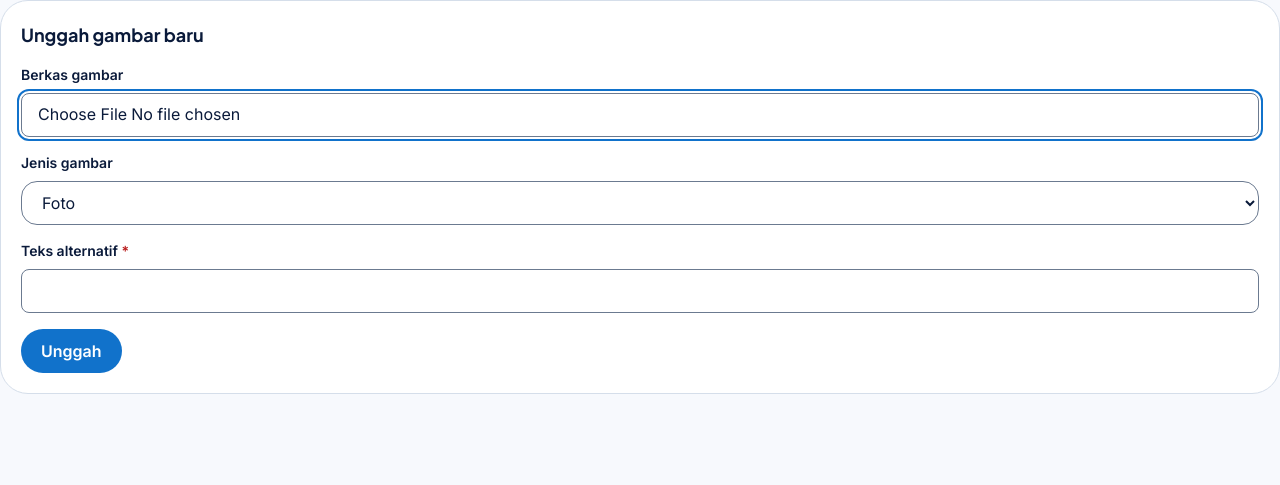
Test: media upload › shows a message instead of crashing when the server action rejects
Earlier steps of the test are not shown.
In the field labelled "Teks alternatif *": (640, 291) x1=21 y1=269 x2=1259 y2=313, type "Foto"
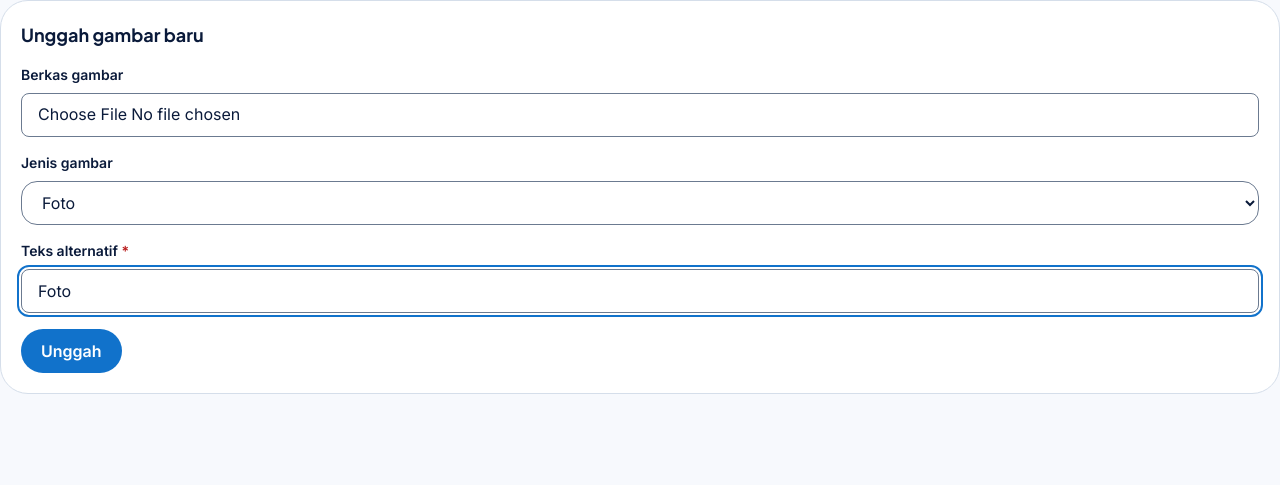
Click the button "Unggah": (71, 351) x1=21 y1=329 x2=122 y2=373
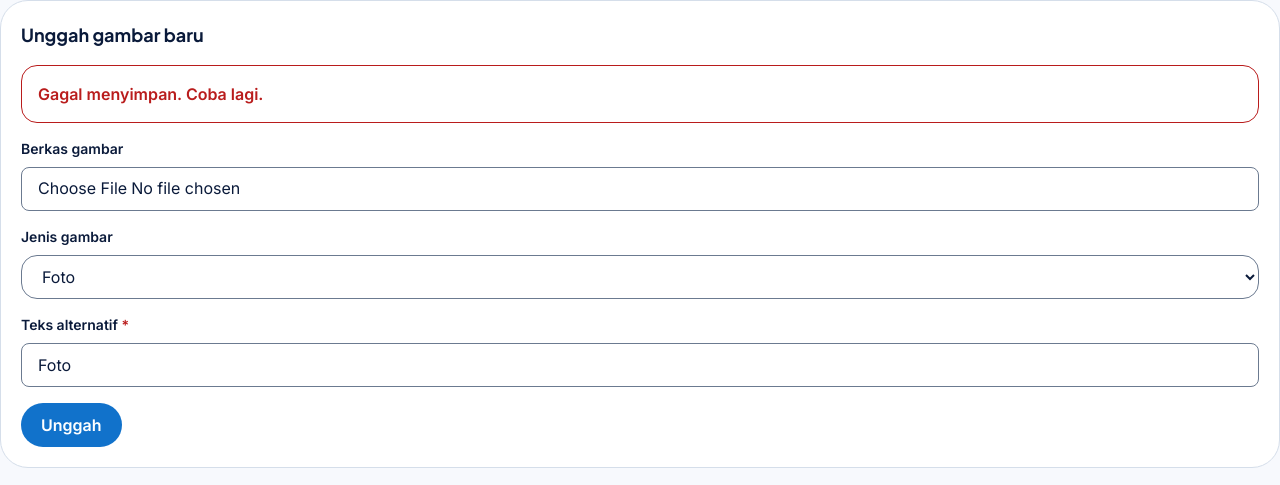
Now the text "Gagal menyimpan. Coba lagi." is shown, box x1=38 y1=84 x2=264 y2=104
